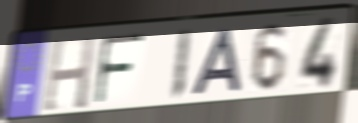4: (298, 14, 340, 92)
6: (250, 20, 289, 94)
A: (187, 27, 244, 98)
F: (92, 32, 147, 108)
H: (41, 35, 98, 114)
I: (168, 27, 194, 103)
